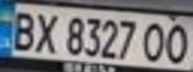2: (100, 16, 121, 60)
3: (81, 14, 103, 57)
7: (115, 16, 142, 61)
8: (60, 12, 87, 56)
B: (6, 7, 39, 52)
O: (139, 19, 172, 64), (160, 20, 193, 64)
X: (30, 9, 63, 54)
